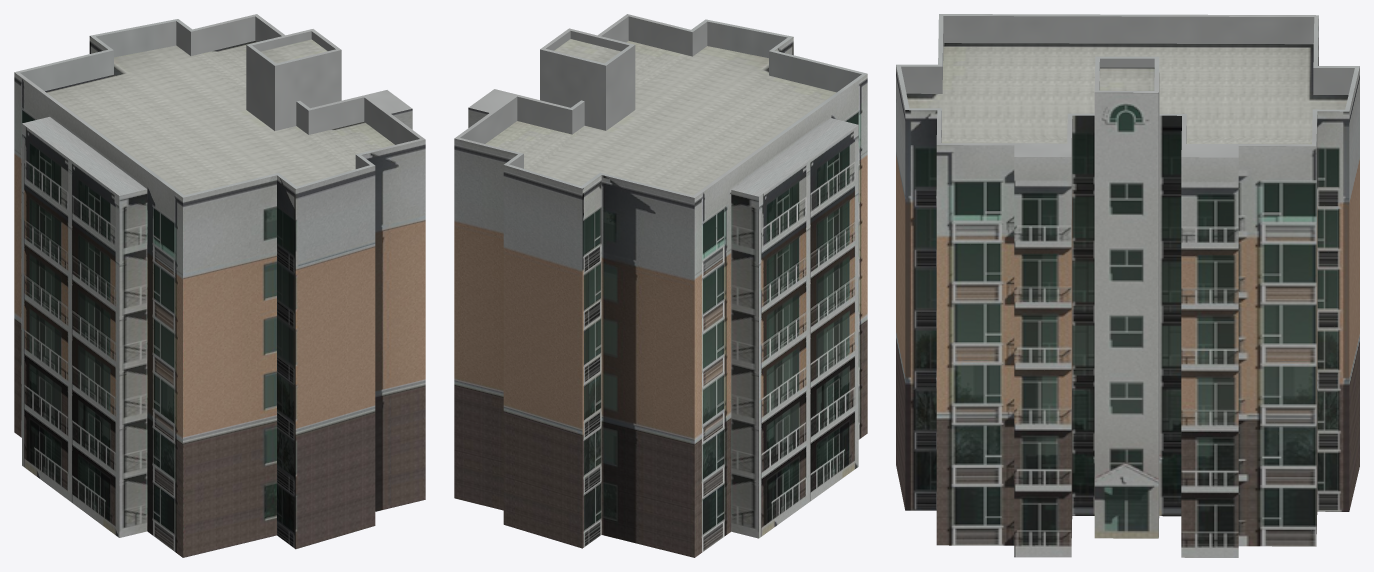
Rendered from fangzi03.FBX.
3 views of the same model, side by side, from view 1: azimuth 30°, elevation 25°; view 2: azimuth 150°, elevation 25°; view 3: azimuth 270°, elevation 25° (orthographic). The views are drawn at different scales.
Parts seen in each view (by area): view 1: fangzi022; view 2: fangzi022; view 3: fangzi022.
Part boxes in pixels (<box>): fangzi022: <box>14,14,425,557</box>; fangzi022: <box>454,14,867,557</box>; fangzi022: <box>896,14,1359,557</box>.
Bounding box in the file's own units: 781 × 1024 × 966.
1 material, 1 textured.
